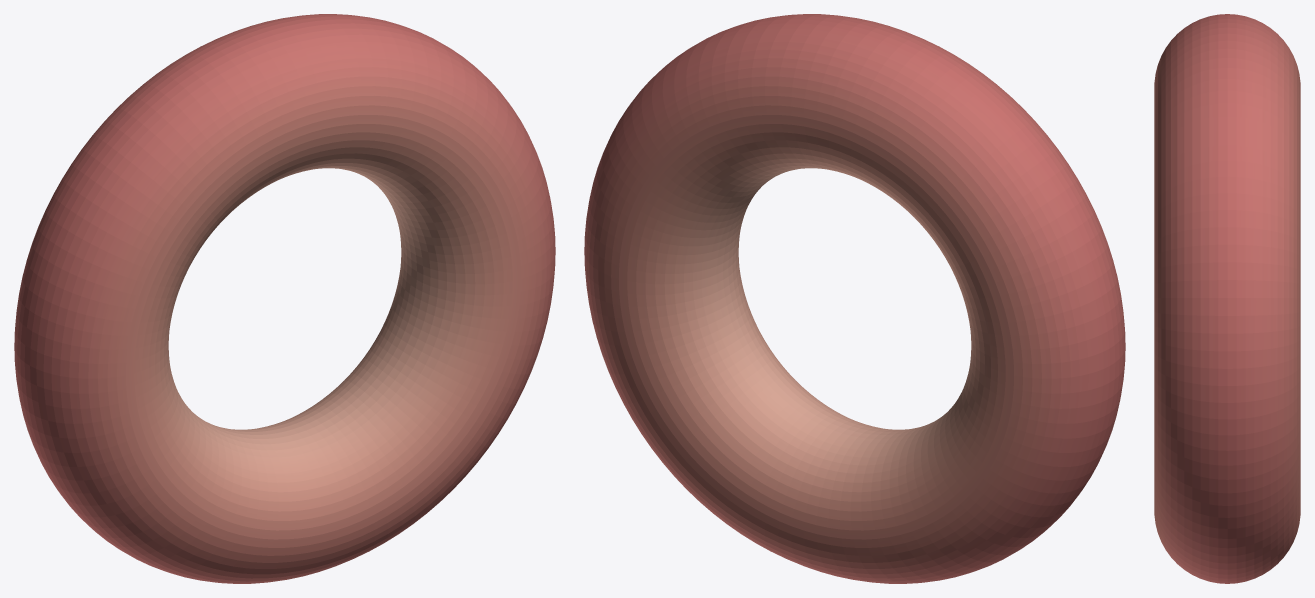
The picture shows the model from 3 angles, left to right: view 1: azimuth 30°, elevation 25°; view 2: azimuth 150°, elevation 25°; view 3: azimuth 270°, elevation 25°; orthographic projection. The views are drawn at different scales.
Visible parts, largest first — view 1: world; view 2: world; view 3: world.
Part boxes in pixels (box(x1,y1,x2,y2)): world: box(14, 14, 555, 583); world: box(584, 14, 1125, 583); world: box(1154, 14, 1300, 583).
Size of the model in its own units: 29.6 by 29.6 by 7.59.
